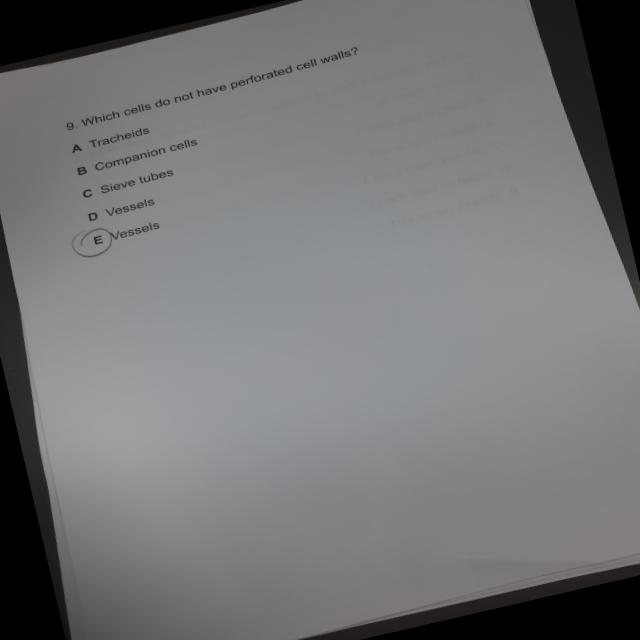E: (66, 222, 128, 264)
